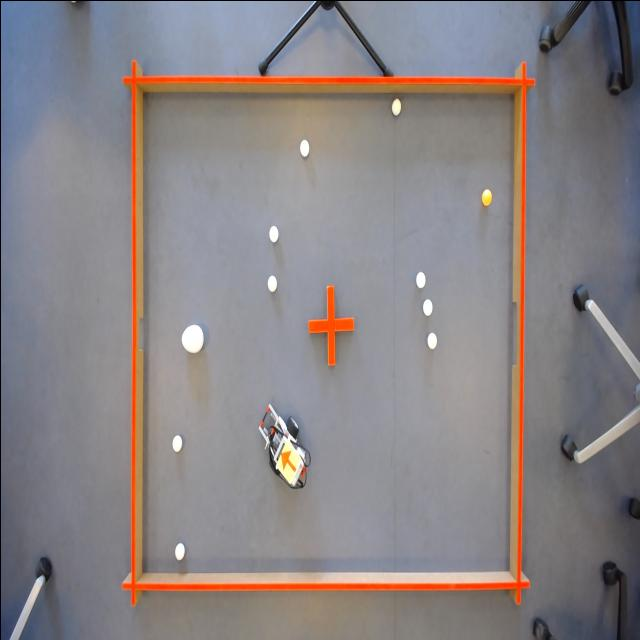cross: (306, 282, 355, 367)
egg: (179, 318, 205, 354)
orange_ball: (480, 184, 492, 208)
robot: (273, 437, 301, 486)
white_ball: (389, 94, 403, 118), (424, 328, 438, 352), (264, 270, 278, 294), (268, 218, 280, 244), (298, 134, 310, 160), (173, 540, 186, 564), (422, 294, 433, 319), (170, 432, 182, 454), (413, 268, 425, 290)
